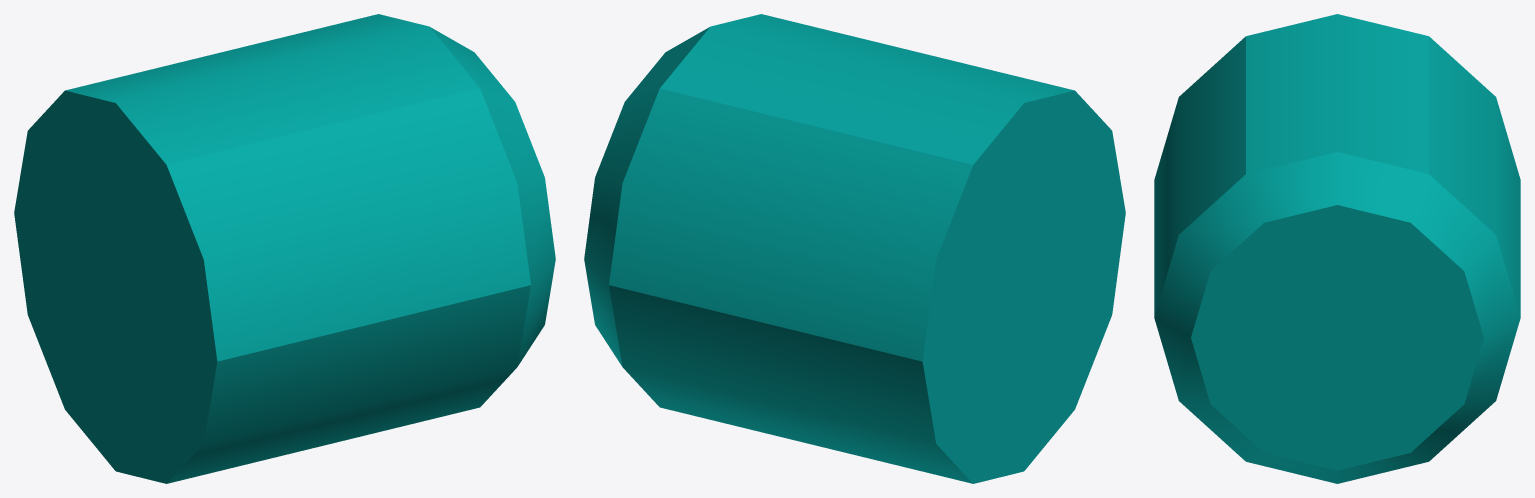
Rendered from _ANM_MoveButton.fbx.
3 renders of one model, left to right at view 1: azimuth 30°, elevation 25°; view 2: azimuth 150°, elevation 25°; view 3: azimuth 270°, elevation 25°, orthographic. The views are drawn at different scales.
Parts seen in each view (by area): view 1: ANM_MoveButton; view 2: ANM_MoveButton; view 3: ANM_MoveButton.
Part boxes in pixels (bbox=[...]): ANM_MoveButton: bbox=[14, 14, 555, 483]; ANM_MoveButton: bbox=[584, 14, 1125, 483]; ANM_MoveButton: bbox=[1154, 14, 1520, 483].
Size of the model in its own units: 1.61 by 1.58 by 1.58.
